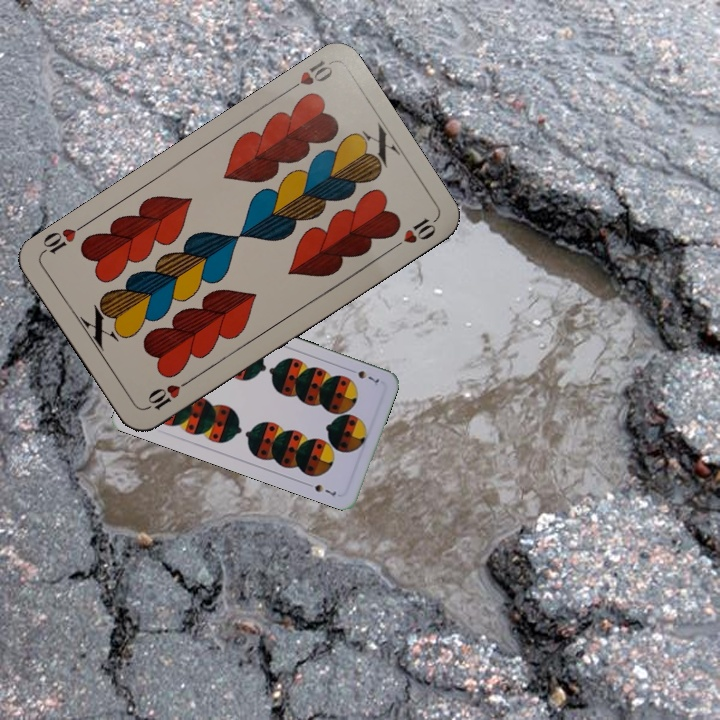H10: (281, 56, 336, 96), (141, 375, 194, 414)
S7: (345, 365, 382, 386)
